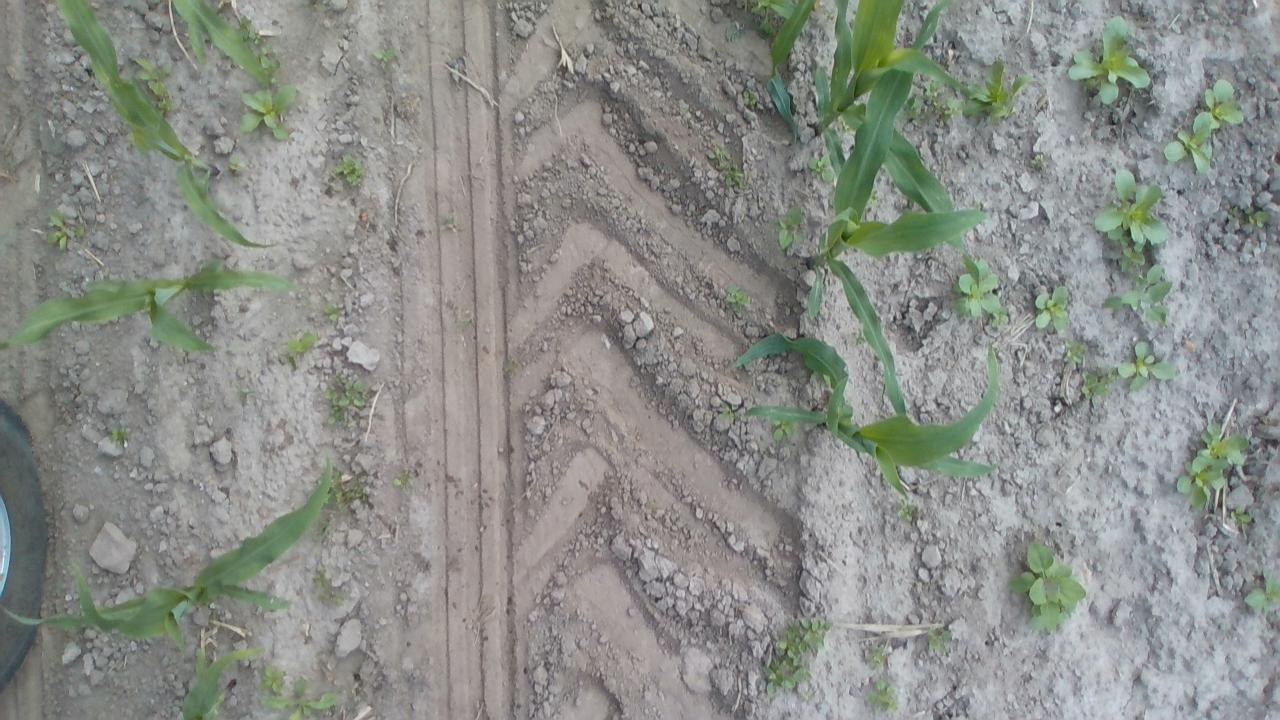Maize: (808, 0, 998, 424), (1, 451, 332, 656), (58, 0, 276, 251), (723, 328, 1007, 516), (814, 0, 981, 283), (3, 261, 301, 362), (171, 0, 272, 87), (764, 0, 817, 139), (175, 647, 261, 720)
Weeds: (1164, 74, 1246, 174), (1065, 13, 1150, 103), (1173, 417, 1253, 512), (1008, 540, 1088, 632), (1095, 164, 1170, 246), (758, 612, 832, 692), (958, 61, 1032, 120), (1104, 264, 1172, 324), (238, 84, 298, 146), (1116, 335, 1176, 394), (260, 675, 338, 720), (950, 254, 1000, 318), (130, 55, 176, 111), (1238, 560, 1280, 614), (320, 377, 366, 425), (1031, 282, 1070, 334), (776, 198, 811, 253), (42, 208, 86, 250), (861, 676, 900, 718), (314, 567, 351, 611), (331, 467, 369, 509), (754, 0, 794, 36), (330, 154, 364, 190), (285, 331, 317, 365), (1078, 368, 1112, 399), (922, 623, 955, 654), (803, 154, 834, 185), (1118, 238, 1145, 273), (1058, 338, 1088, 368), (239, 15, 266, 46), (262, 661, 287, 693), (722, 283, 752, 308), (935, 98, 967, 121), (864, 640, 888, 669), (906, 94, 928, 123), (768, 418, 794, 442), (723, 162, 745, 189), (1228, 509, 1258, 528), (1245, 205, 1268, 229), (922, 75, 946, 97), (718, 401, 740, 425), (991, 305, 1014, 327), (372, 47, 396, 68), (707, 145, 732, 165), (110, 426, 132, 448), (723, 22, 743, 46), (896, 497, 914, 522), (740, 88, 760, 110), (1026, 152, 1048, 172), (322, 302, 342, 323), (226, 154, 246, 174), (502, 357, 520, 377), (438, 214, 458, 232), (392, 469, 410, 488), (261, 56, 281, 73), (458, 316, 478, 331), (317, 518, 332, 538), (1226, 206, 1242, 222), (258, 47, 275, 58), (644, 502, 658, 515)
